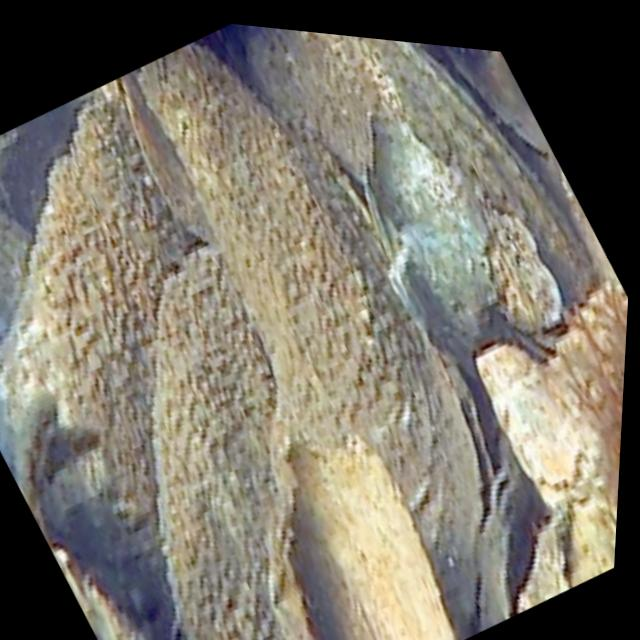Oyster-Closed: (132, 39, 495, 626), (309, 32, 597, 303)
Oyster-Indeterminate: (0, 81, 216, 640), (151, 250, 283, 640), (475, 283, 628, 501)
